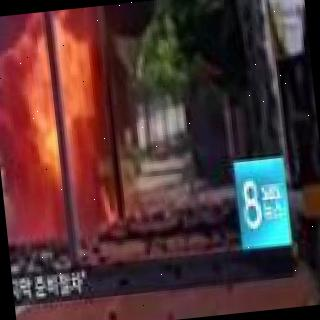fire: (0, 35, 123, 254)
